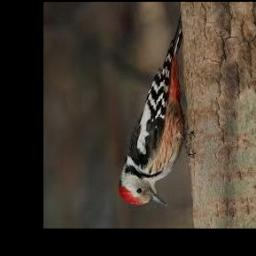Woodpecker: (119, 16, 195, 206)
